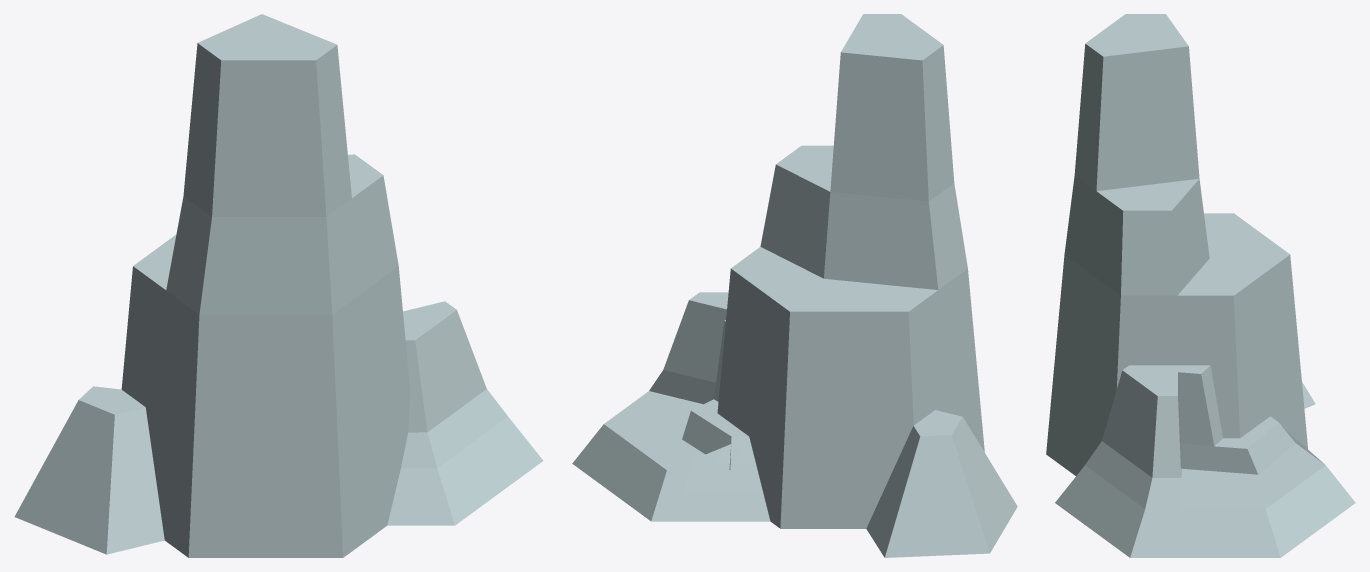
The model's file is stone_tallA.glb.
3 views of the same model, side by side, from view 1: azimuth 30°, elevation 25°; view 2: azimuth 150°, elevation 25°; view 3: azimuth 270°, elevation 25° (orthographic). The views are drawn at different scales.
Parts seen in each view (by area): view 1: stone_tallA; view 2: stone_tallA; view 3: stone_tallA.
Boxes of the visible parts, box(x1,y1,x2,y2) form: stone_tallA: box(14, 14, 543, 557); stone_tallA: box(572, 14, 1017, 557); stone_tallA: box(1046, 14, 1355, 557).
Bounding box in the file's own units: 0.983 × 0.9959 × 0.6832.
